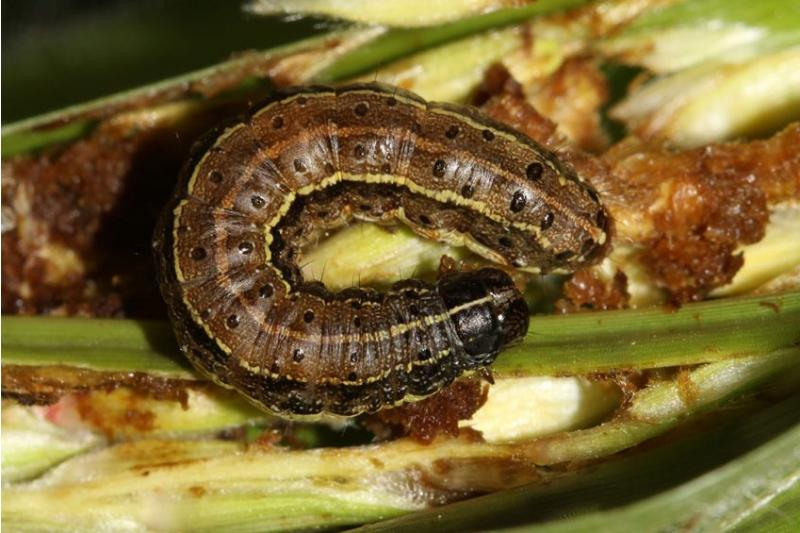fall-armyworm: (151, 84, 617, 420)
